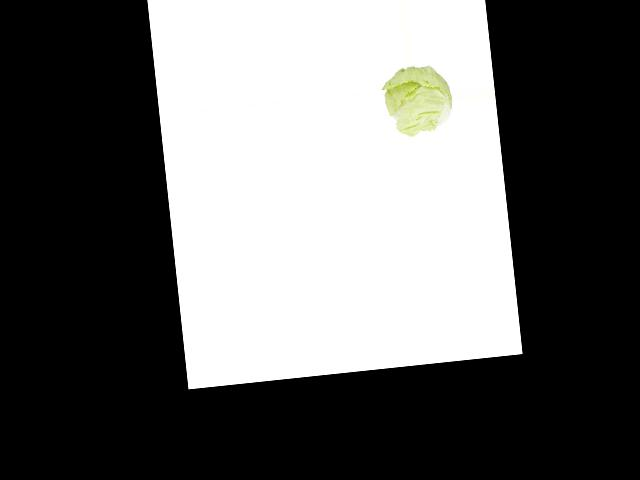lettuce: (381, 62, 457, 136)
